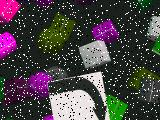Right: (47, 71, 110, 120)
